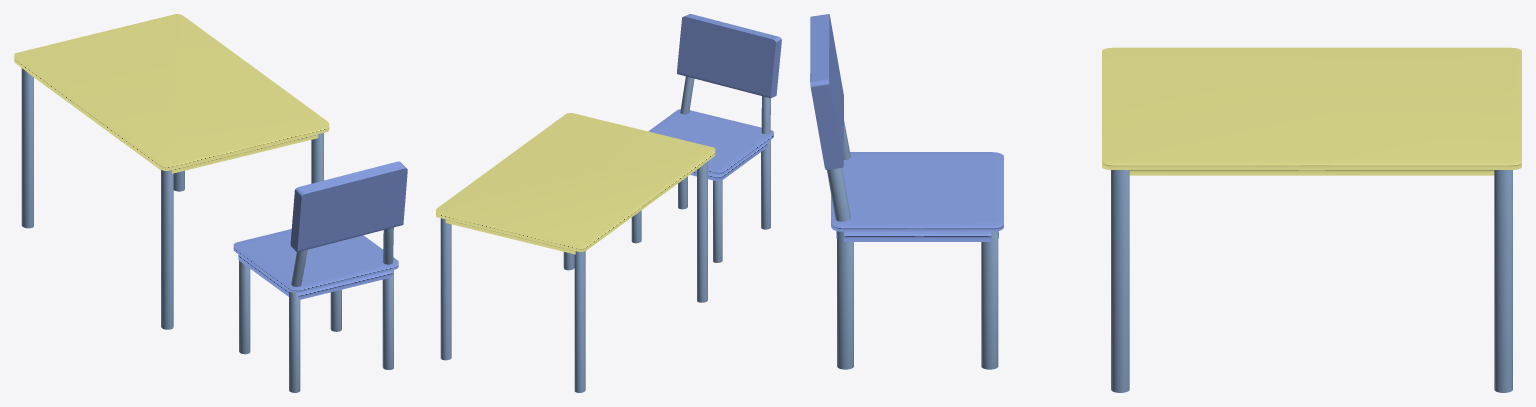
File: table.glb
The picture shows the model from 3 angles, left to right: view 1: azimuth 30°, elevation 25°; view 2: azimuth 150°, elevation 25°; view 3: azimuth 270°, elevation 25°; orthographic projection. The views are drawn at different scales.
Visible parts, largest first — view 1: Cube, 立方体.001, 立方体, 柱体, 柱体.003, 柱体.008, 柱体.005, 柱体.007, Cube.001, 柱体.001, 柱体.006, 柱体.010 (+1 smaller); view 2: Cube, 立方体.001, 立方体, 柱体.003, 柱体.002, 柱体, 柱体.008, 柱体.007, Cube.001, 柱体.009, 柱体.010, 柱体.006; view 3: Cube, 立方体, 柱体.001, 柱体.002, 立方体.001, 柱体.006, 柱体.005, Cube.001, 柱体.009.
Boxes of the visible parts, box(x1,y1,x2,y2) form: Cube: box(14, 14, 329, 170); 立方体.001: box(290, 161, 407, 252); 立方体: box(233, 229, 398, 299); 柱体: box(161, 170, 173, 329); 柱体.003: box(21, 68, 33, 228); 柱体.008: box(289, 291, 300, 392); 柱体.005: box(382, 270, 393, 369); 柱体.007: box(239, 261, 250, 354); Cube.001: box(28, 73, 318, 173); 柱体.001: box(311, 133, 323, 183); 柱体.006: box(330, 289, 341, 331); 柱体.010: box(291, 249, 307, 286); Cube: box(436, 113, 715, 251); 立方体.001: box(677, 14, 781, 98); 立方体: box(648, 109, 773, 180); 柱体.003: box(574, 251, 585, 392); 柱体.002: box(440, 218, 451, 360); 柱体: box(697, 161, 707, 302); 柱体.008: box(761, 140, 770, 229); 柱体.007: box(713, 180, 722, 262); Cube.001: box(445, 165, 702, 254); 柱体.009: box(680, 76, 694, 114); 柱体.010: box(761, 96, 770, 133); 柱体.006: box(631, 210, 641, 243); Cube: box(1102, 47, 1521, 169); 立方体: box(831, 152, 1003, 241); 柱体.001: box(1111, 170, 1129, 392); 柱体.002: box(1494, 170, 1512, 392); 立方体.001: box(810, 14, 843, 169); 柱体.006: box(981, 231, 998, 369); 柱体.005: box(837, 231, 853, 369); Cube.001: box(1129, 170, 1494, 175); 柱体.009: box(827, 168, 850, 221).
Size of what is drawn, in the model's own units: 5.76 by 6.95 by 15.29.
